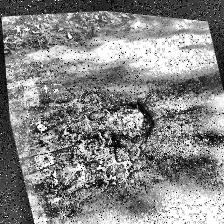pothole: (62, 124, 132, 180), (98, 94, 158, 144)
